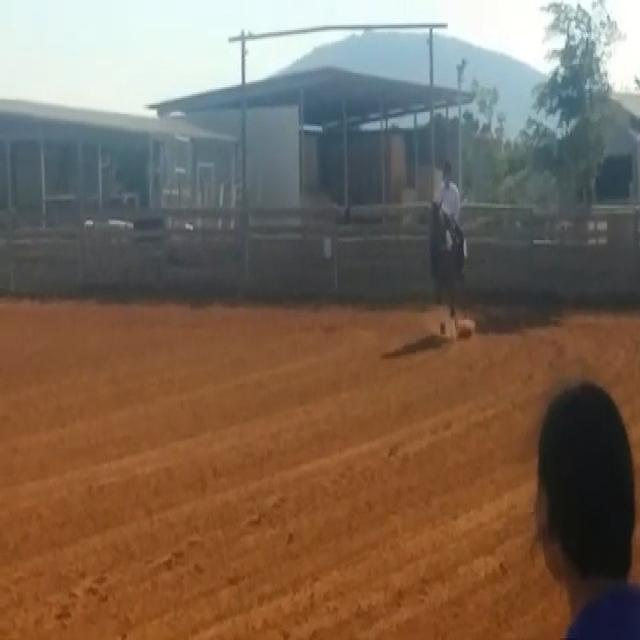horse: (426, 196, 467, 318)
